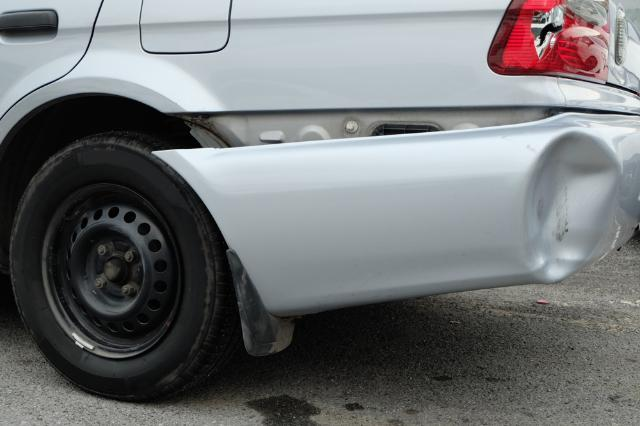dent: (522, 132, 618, 284)
dislocated part: (151, 106, 640, 313)
lamp broken: (489, 0, 611, 84)
